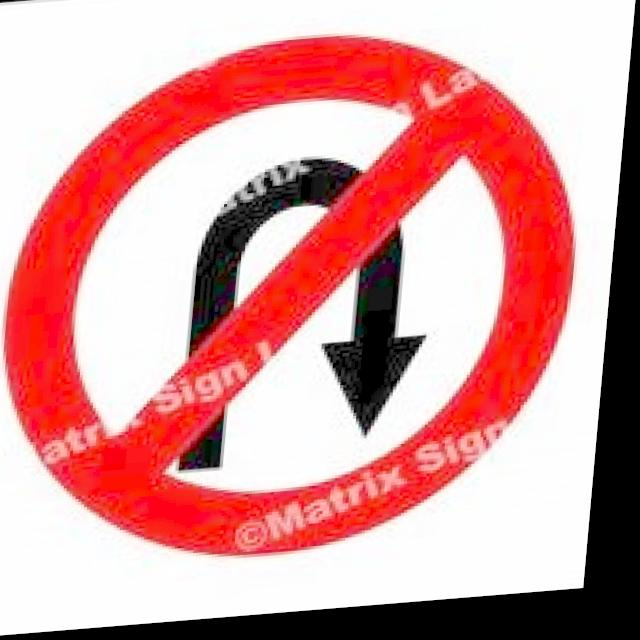U_TURN_PROHIBITED: (0, 11, 605, 591)
